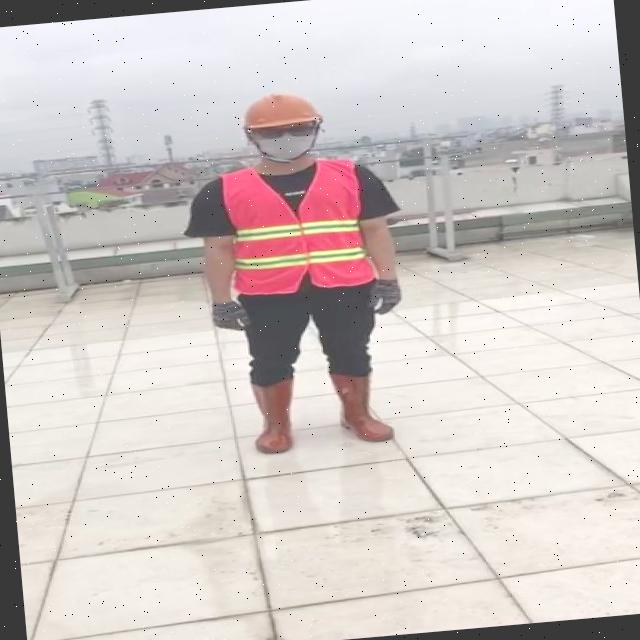boots: (322, 366, 397, 448), (245, 376, 297, 456)
